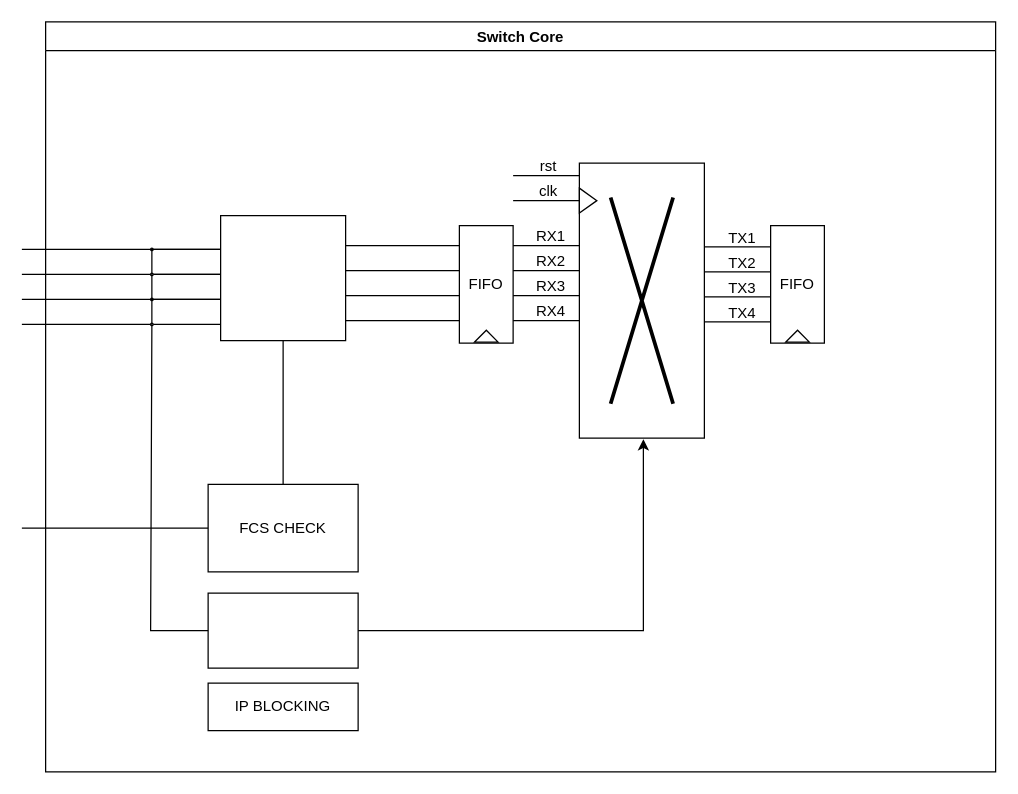
Image size: 1018x794. Some labels were removed from this diagram. Here are the shapes that lost their labels. From the top down, the centre of each, then its label:
At (x=282, y=277): "AUTHORIZER".
At (x=282, y=630): "MAC LEARNING".
